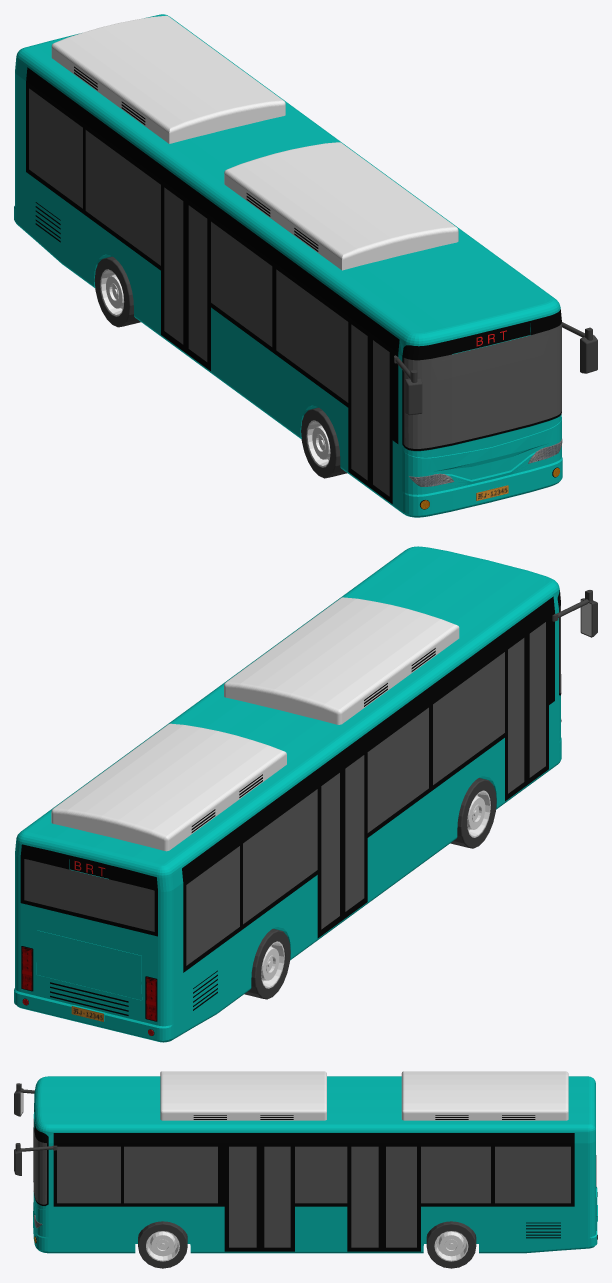
File: srt.gltf
3 views of the same model, one above another, from view 1: azimuth 30°, elevation 25°; view 2: azimuth 150°, elevation 25°; view 3: azimuth 270°, elevation 25° (orthographic). The views are drawn at different scales.
Visible parts, largest first — view 1: 外壳-车身, 外壳-玻璃黑 (×2), 外壳-黑边框 (×2), 通风口.1-银色, 通风口-银色, 外胎 (×2), 轮毂 (×2), 前大灯; view 2: 外壳-车身, 外壳-玻璃黑 (×2), 外壳-黑边框 (×3), 通风口-银色, 通风口.1-银色, 外胎 (×2), 轮毂 (×2); view 3: 外壳-车身, 外壳-玻璃黑 (×2), 外壳-黑边框 (×3), 通风口-银色, 通风口.1-银色, 外胎 (×2), 轮毂 (×2).
Boxes of the visible parts, box(x1,y1,x2,y2) form: 外壳-车身: box(14, 14, 562, 517); 外壳-玻璃黑 (×2): box(29, 88, 561, 496); 外壳-黑边框 (×2): box(26, 67, 561, 503); 通风口.1-银色: box(224, 142, 458, 270); 通风口-银色: box(51, 15, 285, 143); 外胎 (×2): box(94, 256, 347, 478); 轮毂 (×2): box(100, 269, 330, 467); 前大灯: box(409, 439, 562, 486); 外壳-车身: box(14, 546, 561, 1042); 外壳-玻璃黑 (×2): box(24, 622, 545, 965); 外壳-黑边框 (×3): box(20, 596, 554, 1015); 通风口-银色: box(51, 723, 286, 851); 通风口.1-银色: box(224, 597, 459, 724); 外胎 (×2): box(244, 778, 496, 999); 轮毂 (×2): box(261, 790, 490, 988); 外壳-车身: box(33, 1076, 597, 1253); 外壳-玻璃黑 (×2): box(33, 1119, 570, 1247); 外壳-黑边框 (×3): box(33, 1110, 574, 1251); 通风口-银色: box(401, 1071, 568, 1120); 通风口.1-银色: box(160, 1071, 326, 1120); 外胎 (×2): box(138, 1221, 476, 1268); 轮毂 (×2): box(146, 1231, 468, 1261).
Size of the model in its own units: 5.63 by 6.26 by 21.53.
12 materials, 5 textured.
